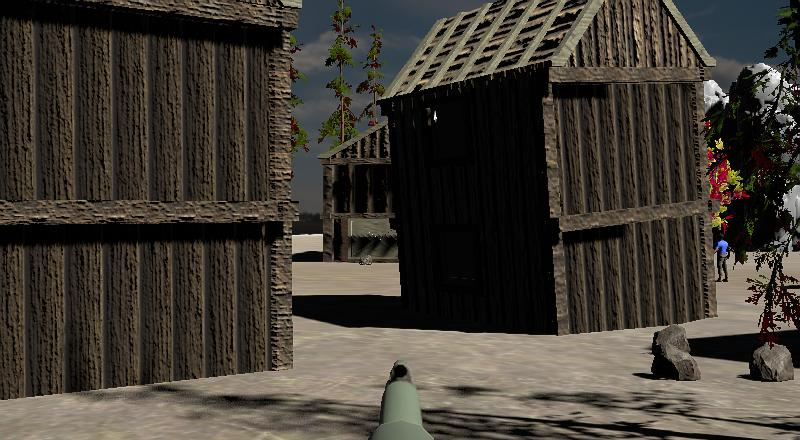House: (0, 2, 306, 406), (379, 1, 720, 334), (379, 0, 718, 334)
Human: (714, 233, 731, 283)
